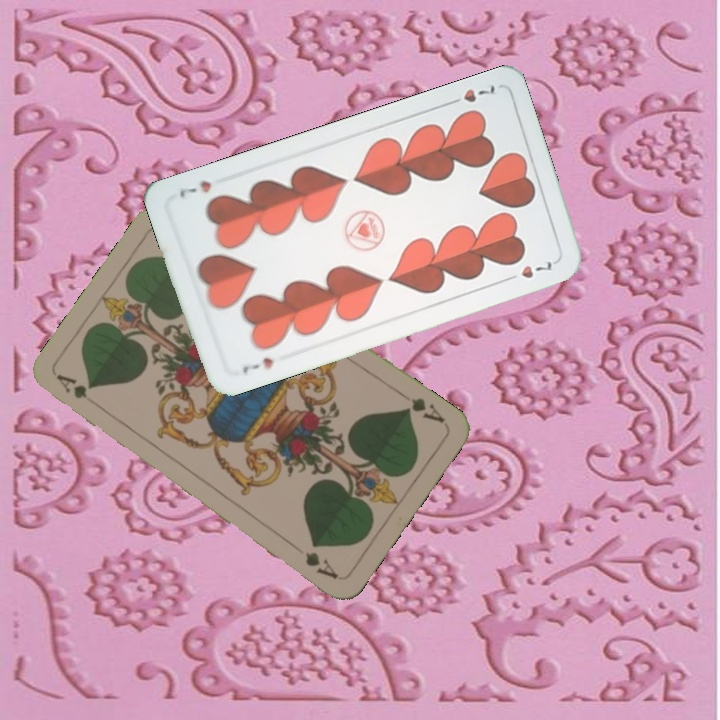GA: (396, 388, 448, 426), (53, 370, 90, 402)
H7: (443, 81, 498, 108), (238, 353, 276, 376)
